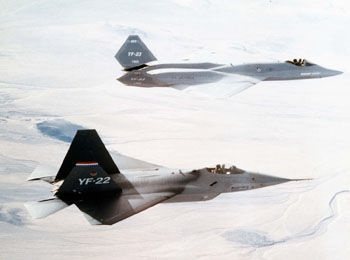airplane: (20, 127, 315, 221), (113, 29, 347, 101)
